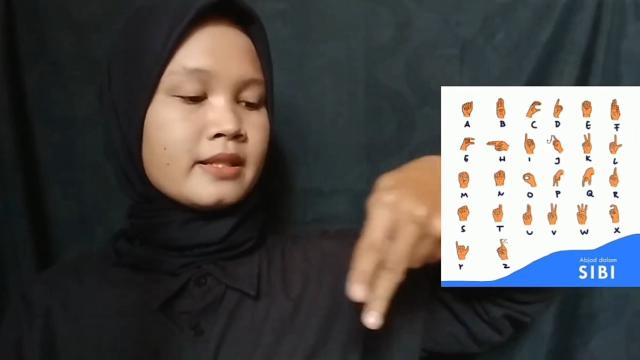P: (344, 148, 442, 332)
